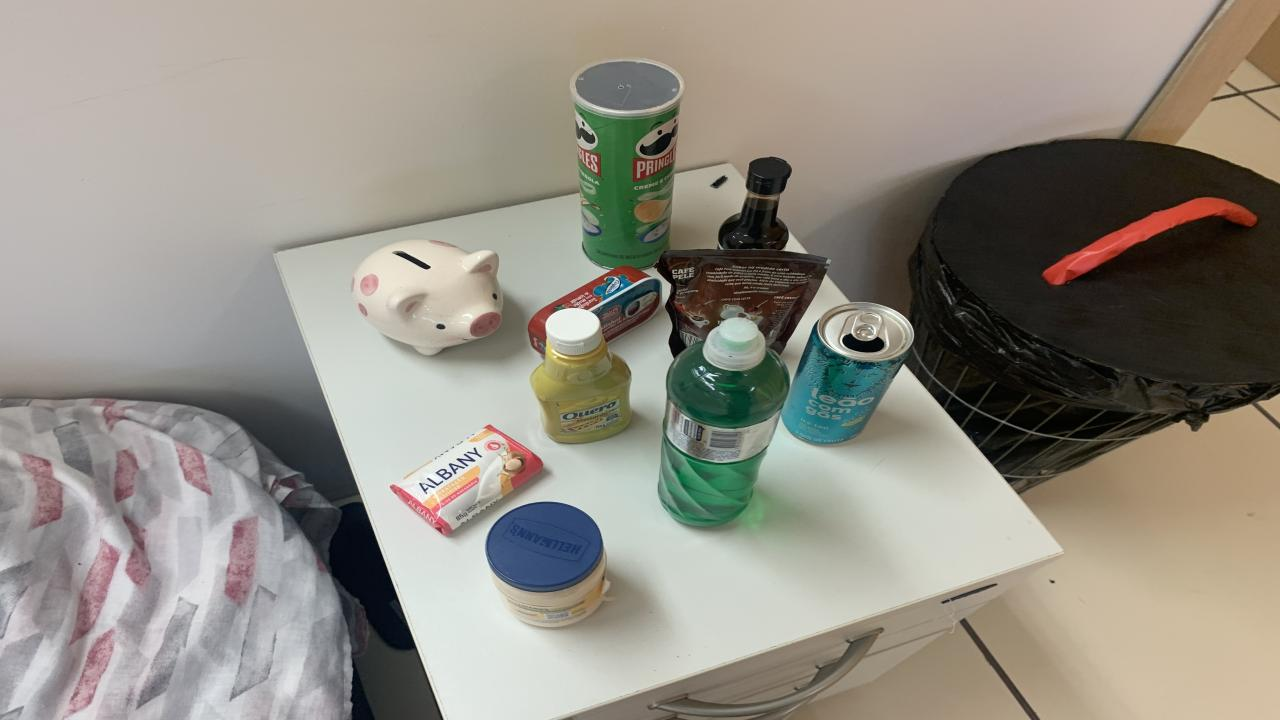Coffee-Pantry_Items: (655, 249, 830, 354)
Detergent-Cleanup_Items: (658, 317, 790, 527)
English_Sauce-Pantry_Items: (718, 158, 792, 249)
Mayonnaise-Pantry_Items: (485, 502, 612, 628)
Mustard-Pantry_Items: (530, 308, 630, 442)
Pig_Safe-Miscellaneous: (350, 240, 502, 356)
Pringles-Snacks: (570, 58, 685, 268)
Soap-Cleanup_Items: (390, 426, 542, 534)
Tea-Drinks: (782, 302, 915, 444)
Tuna_Can-Pantry_Items: (528, 266, 660, 352)
